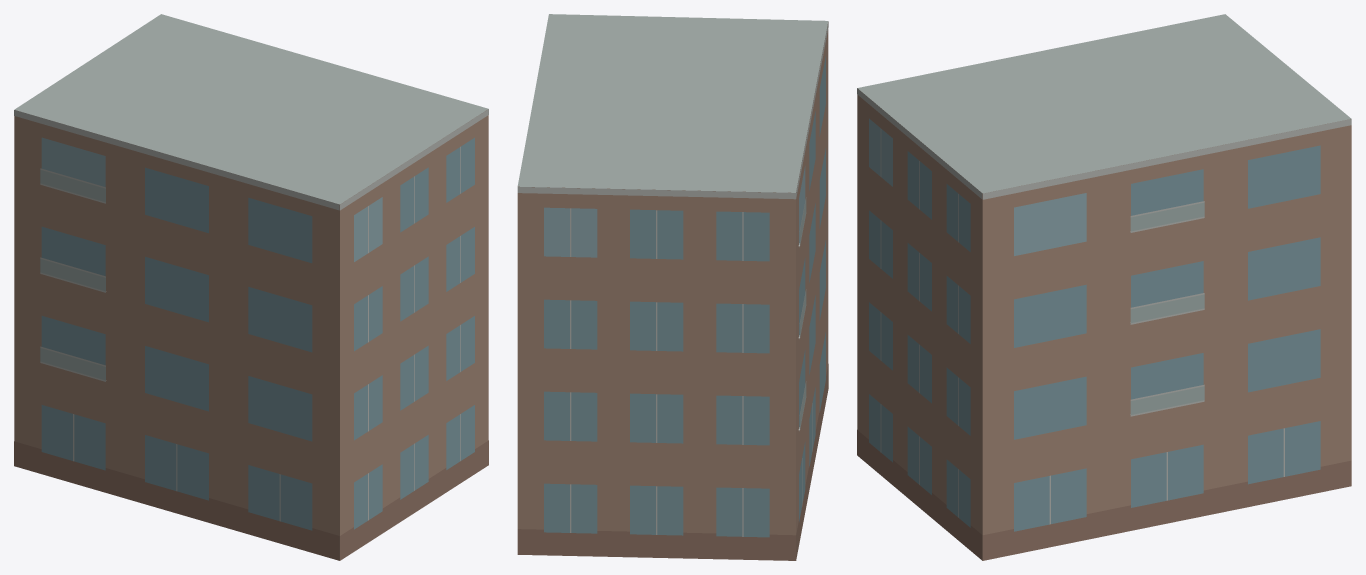
File: survey-upis-33005238.glb
3 renders of one model, left to right at view 1: azimuth 30°, elevation 25°; view 2: azimuth 150°, elevation 25°; view 3: azimuth 270°, elevation 25°, orthographic. The views are drawn at different scales.
Parts seen in each view (by area): view 1: survey-upis-33005238.tmp; view 2: survey-upis-33005238.tmp; view 3: survey-upis-33005238.tmp.
Boxes of the visible parts, x1=… form: survey-upis-33005238.tmp: x1=14, y1=14, x2=488, y2=560; survey-upis-33005238.tmp: x1=517, y1=14, x2=828, y2=560; survey-upis-33005238.tmp: x1=857, y1=14, x2=1351, y2=560.
Bounding box in the file's own units: 14.93 × 14.23 × 17.37.
